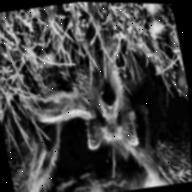boar: (7, 31, 182, 162), (112, 69, 192, 190), (0, 112, 70, 192)
